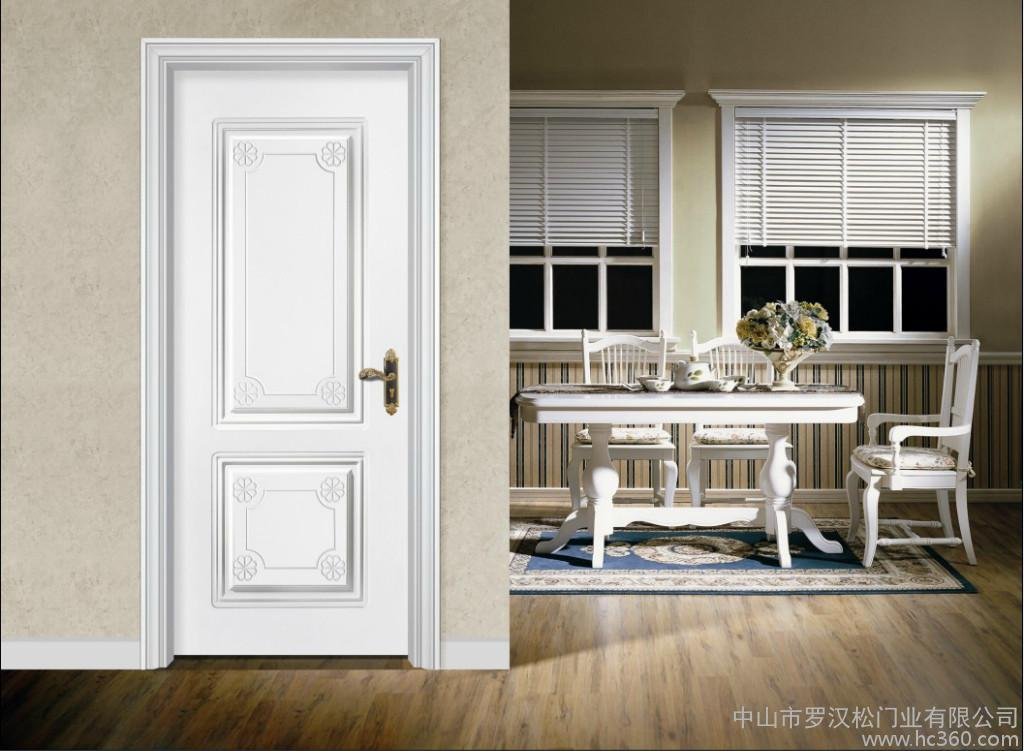door: (170, 64, 411, 644)
